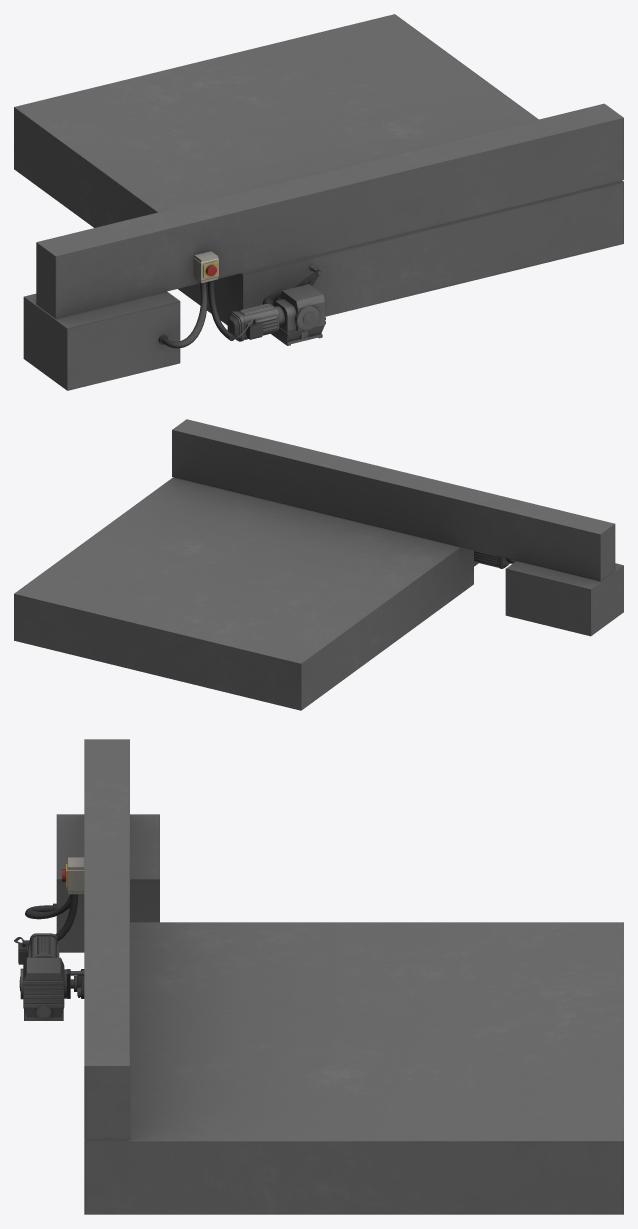
File: motoreductor.fbx
3 views of the same model, one above another, from view 1: azimuth 30°, elevation 25°; view 2: azimuth 150°, elevation 25°; view 3: azimuth 270°, elevation 25° (orthographic). The views are drawn at different scales.
Parts seen in each view (by area): view 1: pCube10, pCube11, pCube16, polySurface565, pCylinder11, pCube14; view 2: pCube10, pCube11, pCube16; view 3: pCube10, pCube11, pCube16, polySurface565, polySurface567, pCube14.
Part boxes in pixels (box(x1,y1,x2,y2)): pCube10: box(14, 14, 623, 325); pCube11: box(36, 103, 623, 318); pCube16: box(23, 291, 180, 390); polySurface565: box(273, 284, 324, 342); pCylinder11: box(161, 283, 207, 348); pCube14: box(193, 251, 218, 283); pCube10: box(14, 477, 473, 710); pCube11: box(172, 419, 615, 581); pCube16: box(505, 561, 623, 636); pCube10: box(84, 922, 623, 1214); pCube11: box(84, 739, 129, 1139); pCube16: box(56, 814, 159, 952); polySurface565: box(23, 957, 64, 1017); polySurface567: box(23, 981, 63, 1007); pCube14: box(67, 857, 84, 894).
Bounding box in the file's own units: 209 × 44.36 × 165.
2 materials, 2 textured.
